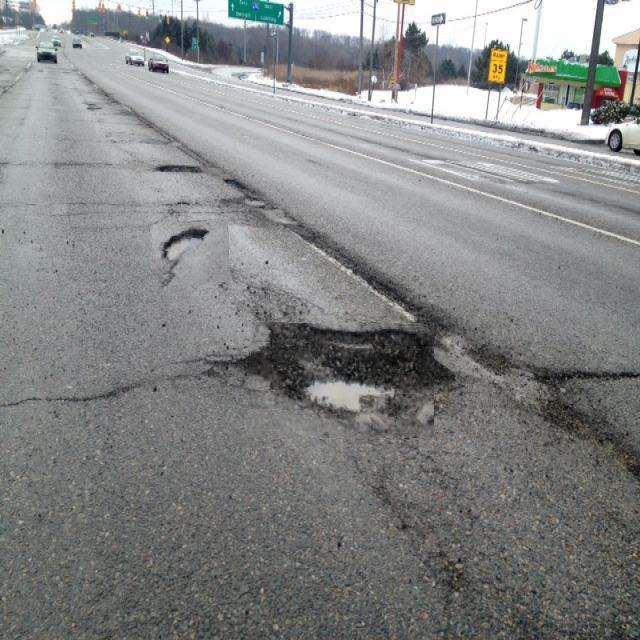Pothole: (248, 322, 434, 439), (152, 222, 229, 286)
